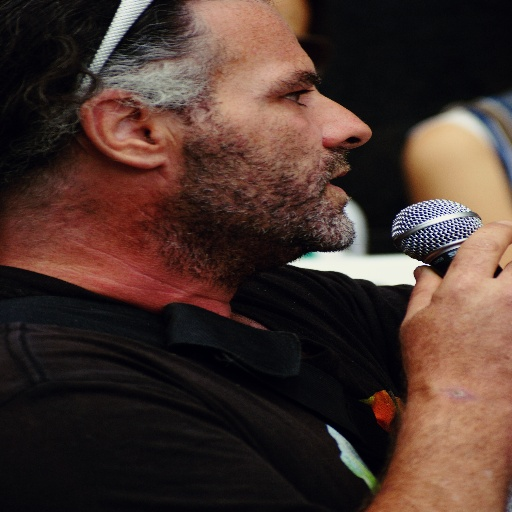hand: (400, 218, 511, 385)
